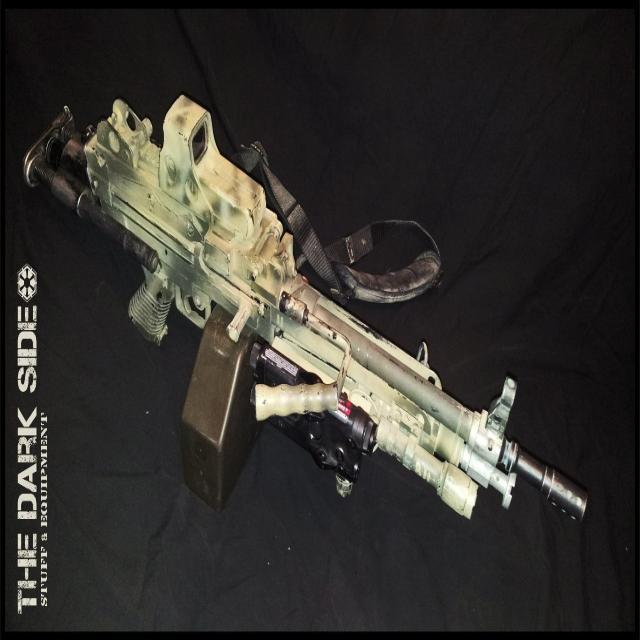firearm: (21, 103, 588, 529)
